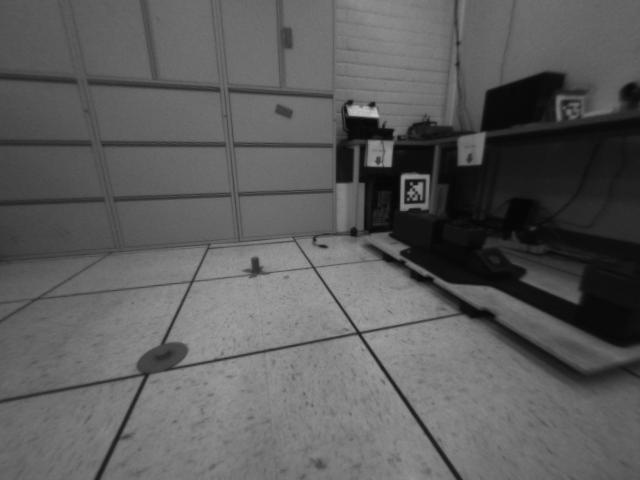X: (242, 255, 273, 278)
